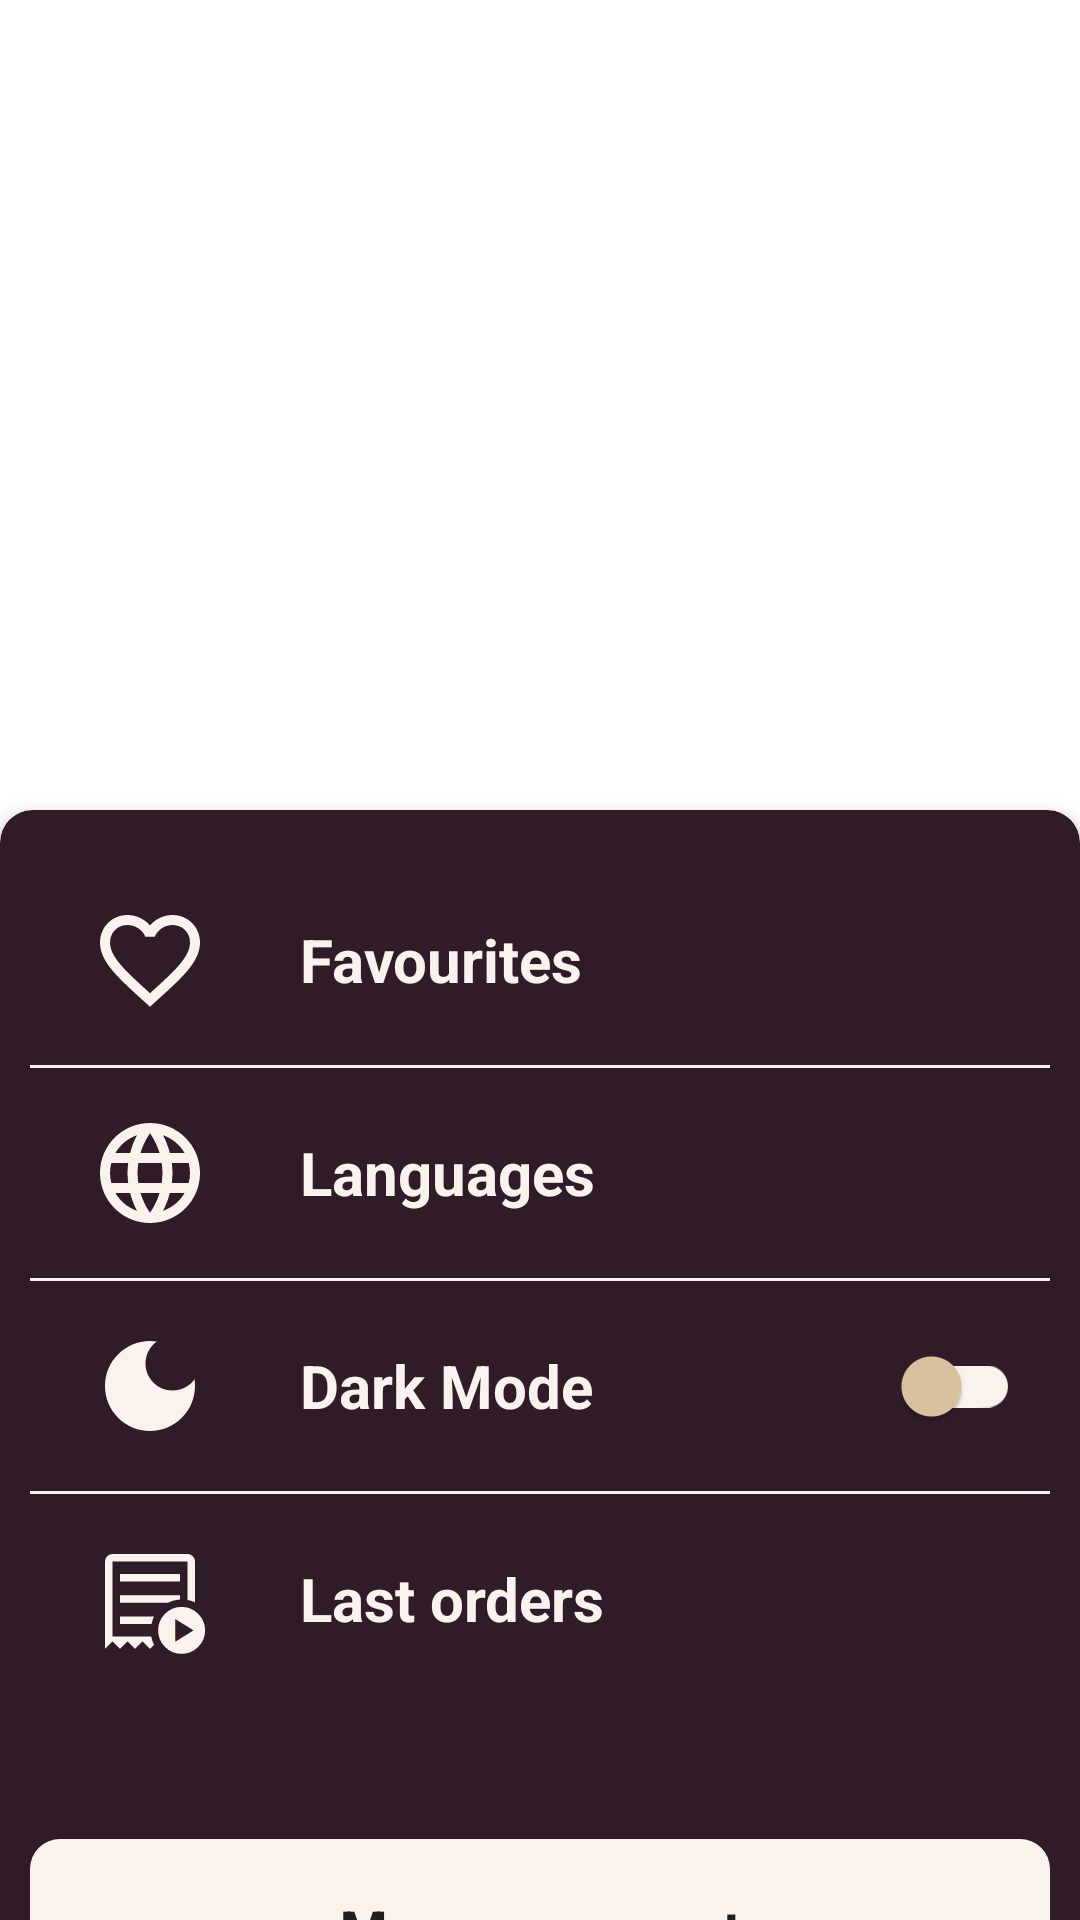

Where icons sit on this 1080x1920 app screen, as (x1, y1, x2, y2):
order pay: (105, 1554, 205, 1654)
